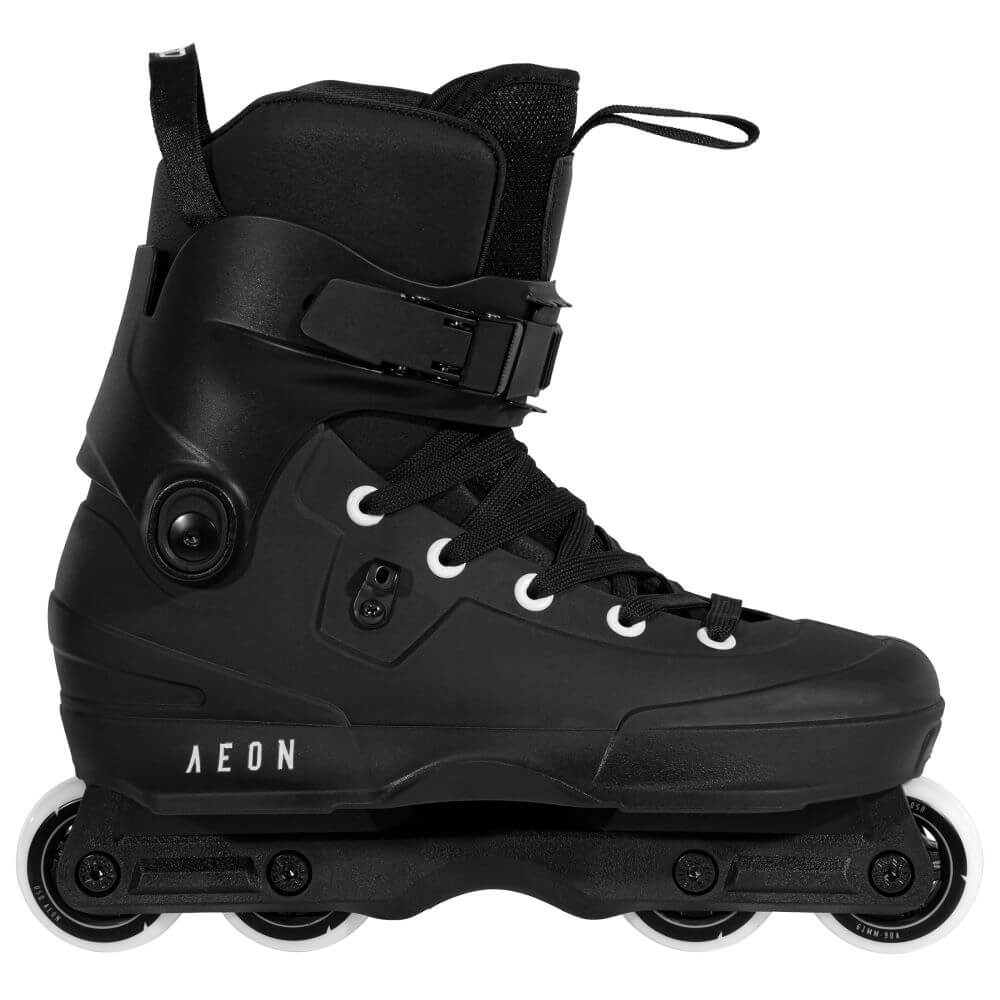roller_blade: (26, 102, 986, 956)
